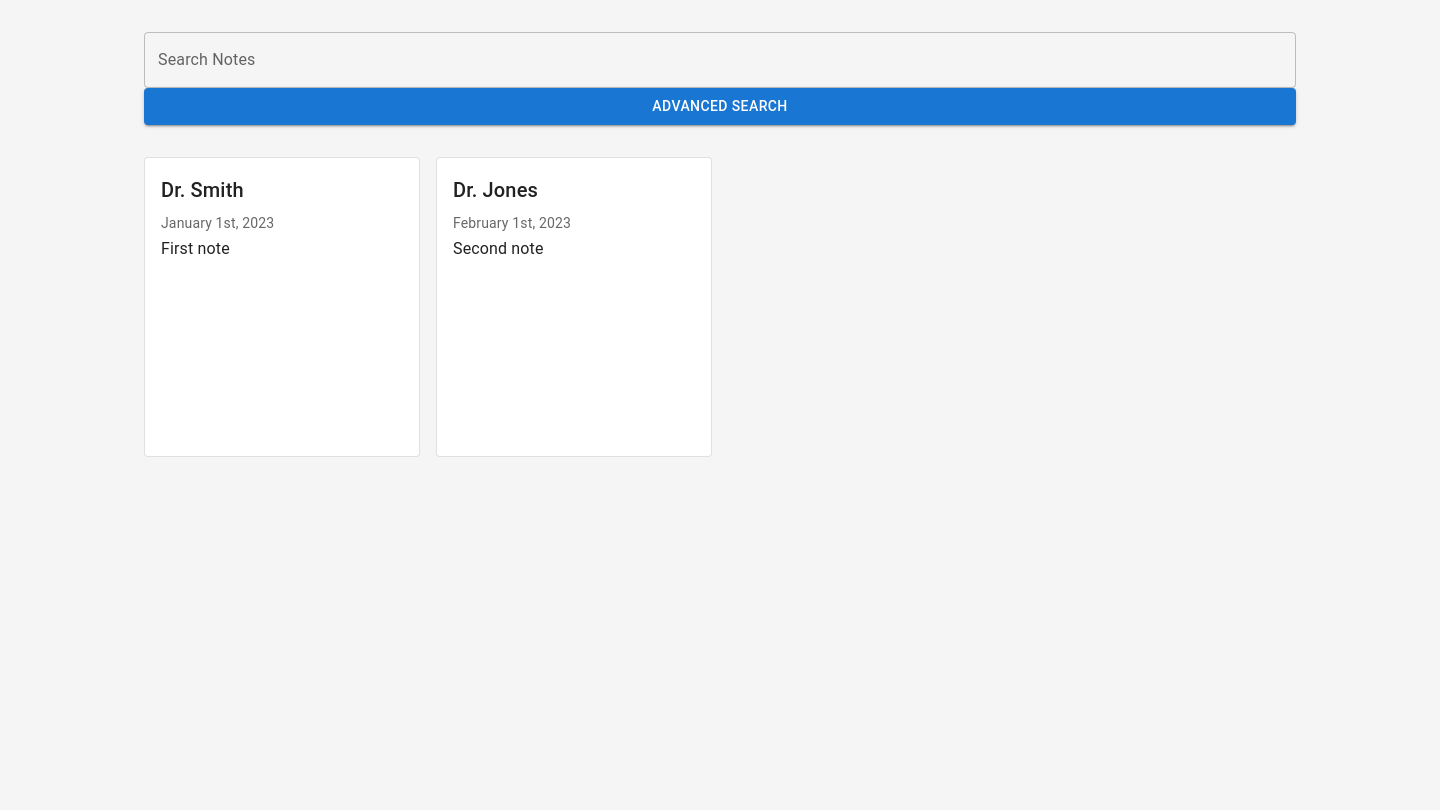
Test: MainView › filters notes based on advanced search criteria
Click the button "Advanced Search" at (720, 106), box x1=144 y1=88 x2=1296 y2=124
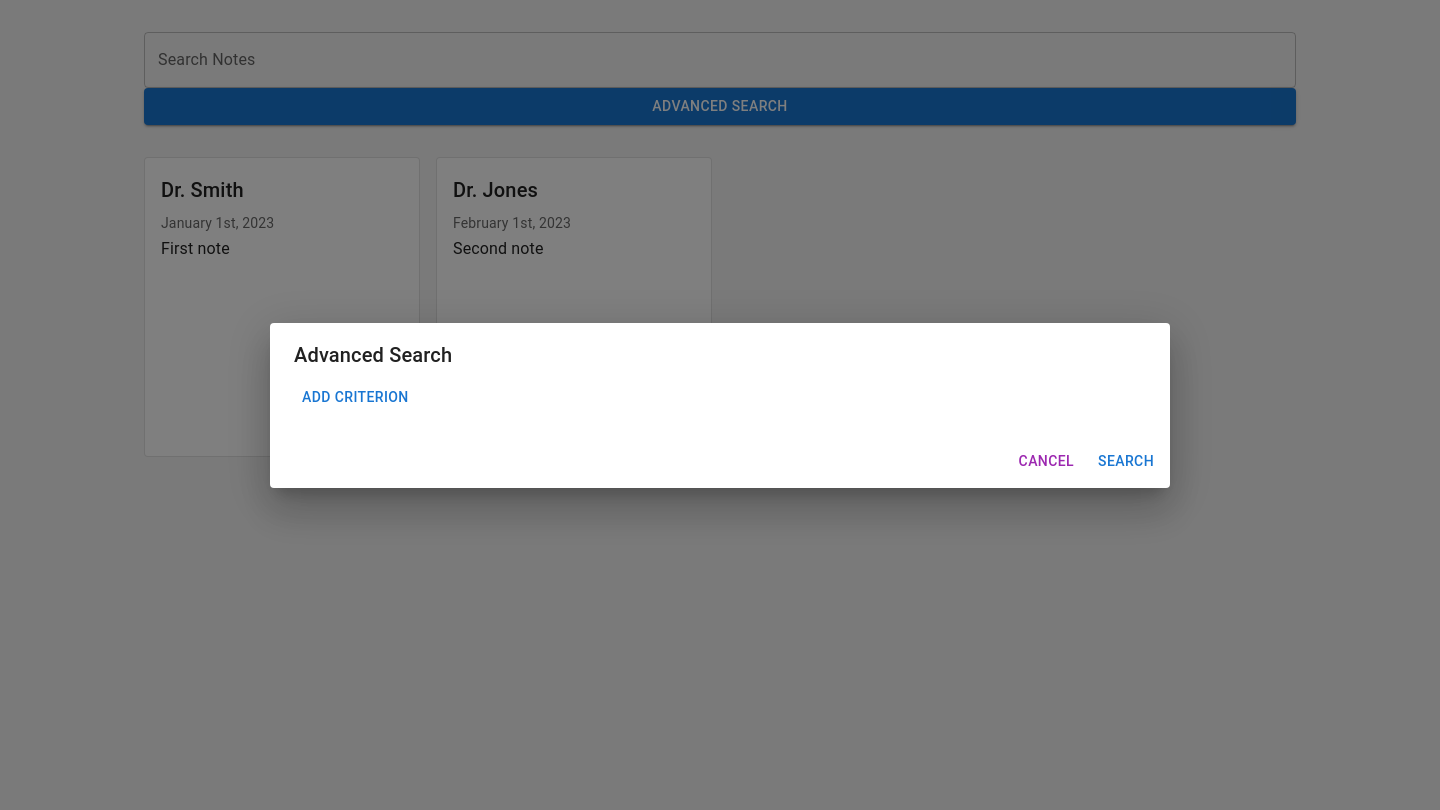
Click the button "Search" at (1126, 461), box x1=1090 y1=443 x2=1162 y2=480
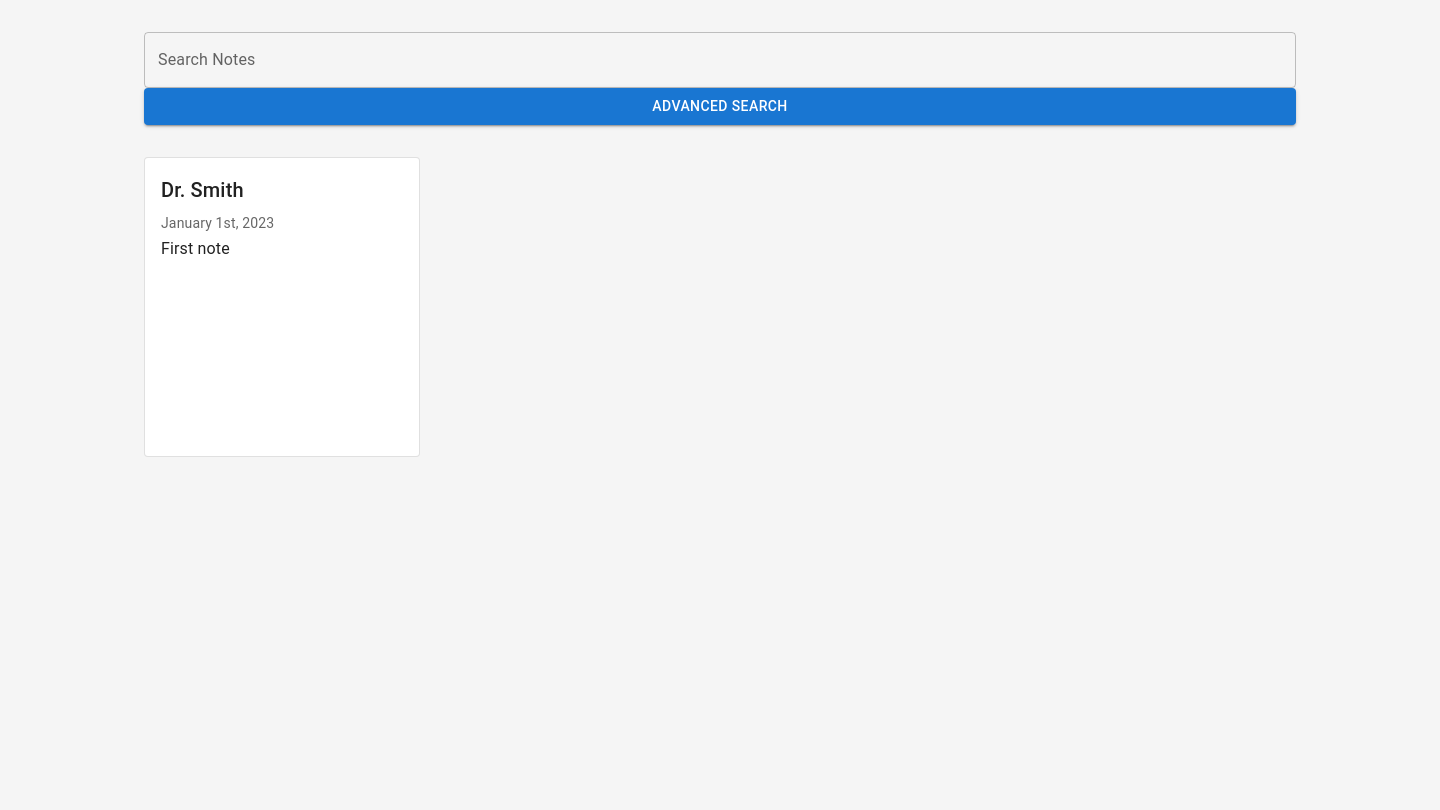
Expected: the text "First note" is shown, x1=161 y1=239 x2=230 y2=258
Expected: the text "Second note" is gone
